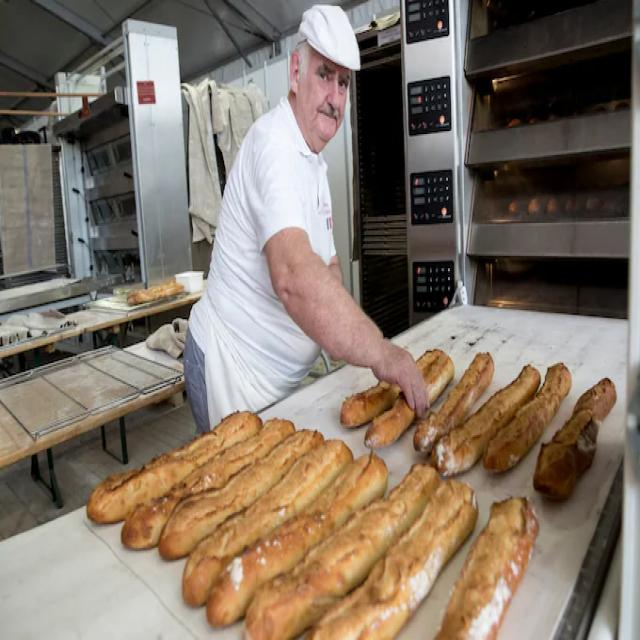Baguette: (246, 468, 440, 638), (207, 456, 386, 624), (183, 440, 352, 605), (306, 480, 477, 638), (121, 420, 295, 548), (159, 431, 322, 557), (87, 413, 261, 523), (434, 497, 537, 638), (431, 366, 540, 474), (534, 378, 616, 500), (484, 363, 570, 471), (414, 352, 491, 450), (341, 382, 404, 428), (364, 396, 415, 447), (423, 351, 454, 404), (416, 349, 442, 378)
